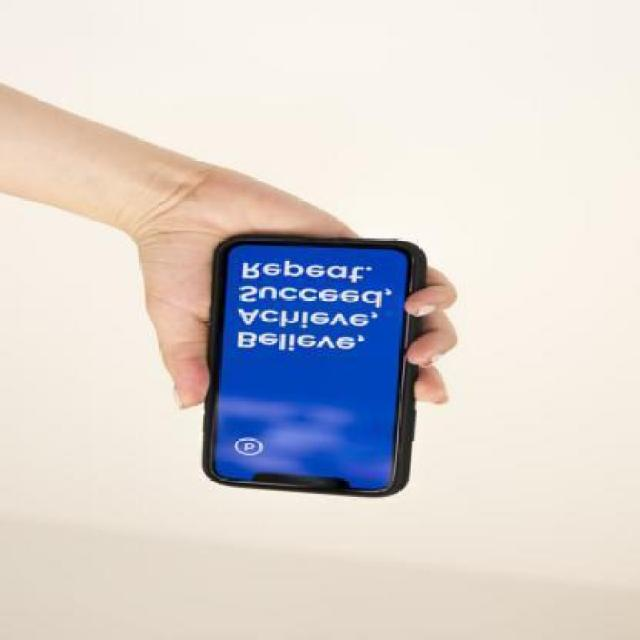mobile: (202, 242, 426, 500)
